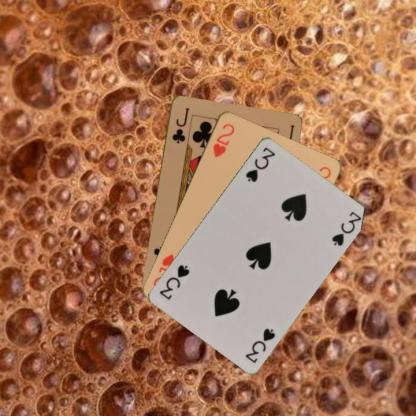2h: (209, 120, 236, 158)
3s: (242, 144, 276, 183), (242, 325, 276, 364)
Jc: (169, 104, 191, 144)
